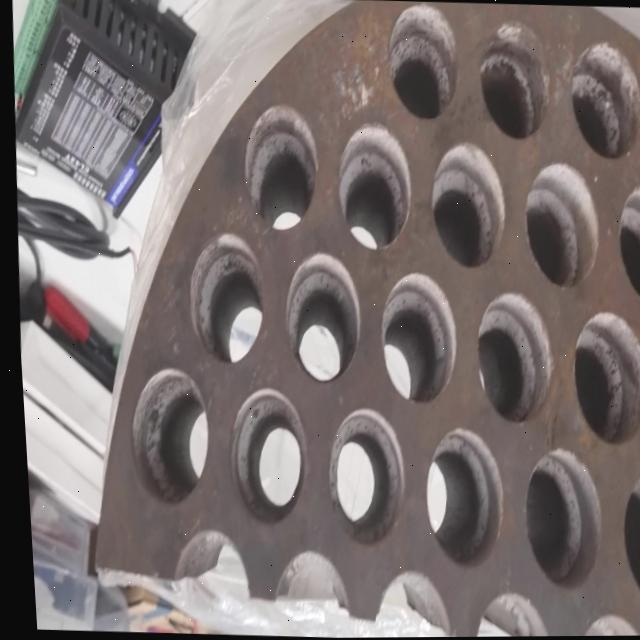Hole: (412, 424, 501, 572), (511, 445, 599, 593), (119, 365, 209, 507), (218, 385, 306, 529), (315, 405, 403, 549), (370, 270, 458, 406), (465, 290, 552, 425), (274, 250, 361, 385), (179, 231, 264, 367), (423, 140, 507, 272), (236, 102, 320, 232), (516, 161, 600, 291), (562, 309, 640, 448), (330, 121, 413, 251), (473, 19, 553, 143), (381, 0, 460, 123), (562, 41, 640, 162), (609, 468, 640, 613), (610, 181, 640, 311)
